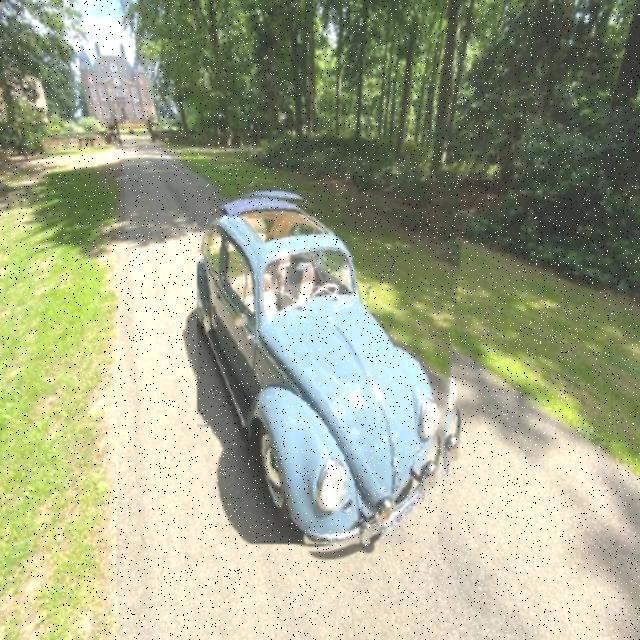car: (199, 189, 467, 545)
